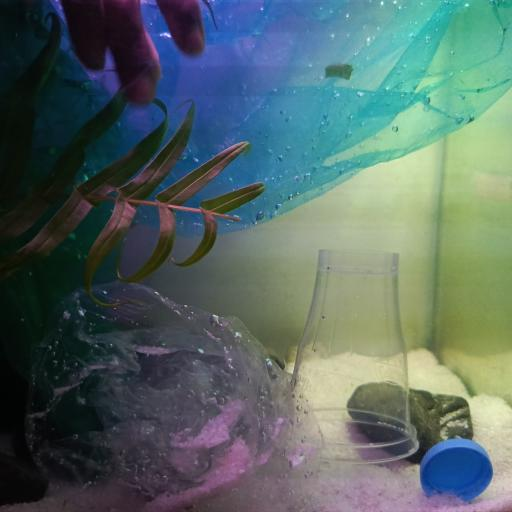plastic_bag: (59, 0, 512, 234), (26, 278, 327, 512), (0, 0, 132, 401)
plastic_cup: (283, 250, 422, 462), (417, 438, 494, 502)
